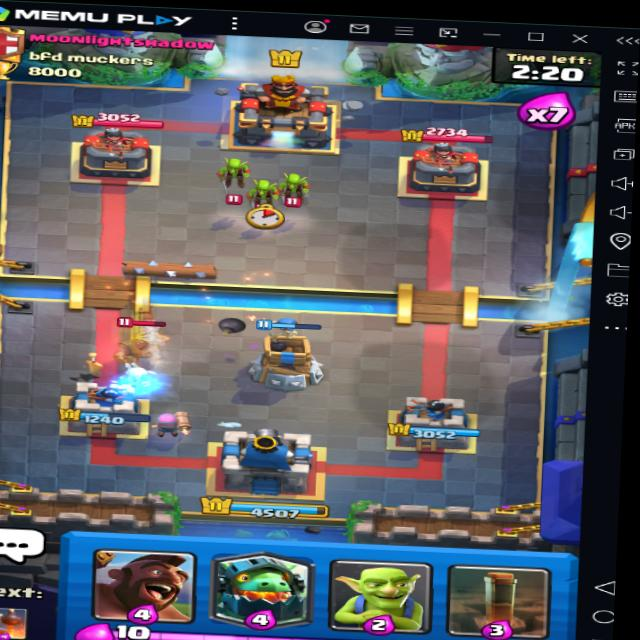goblin: (213, 148, 254, 184), (242, 176, 281, 213), (280, 171, 319, 203)
golden-knight: (96, 317, 188, 367)
golden-knight-ability: (97, 313, 196, 373)
